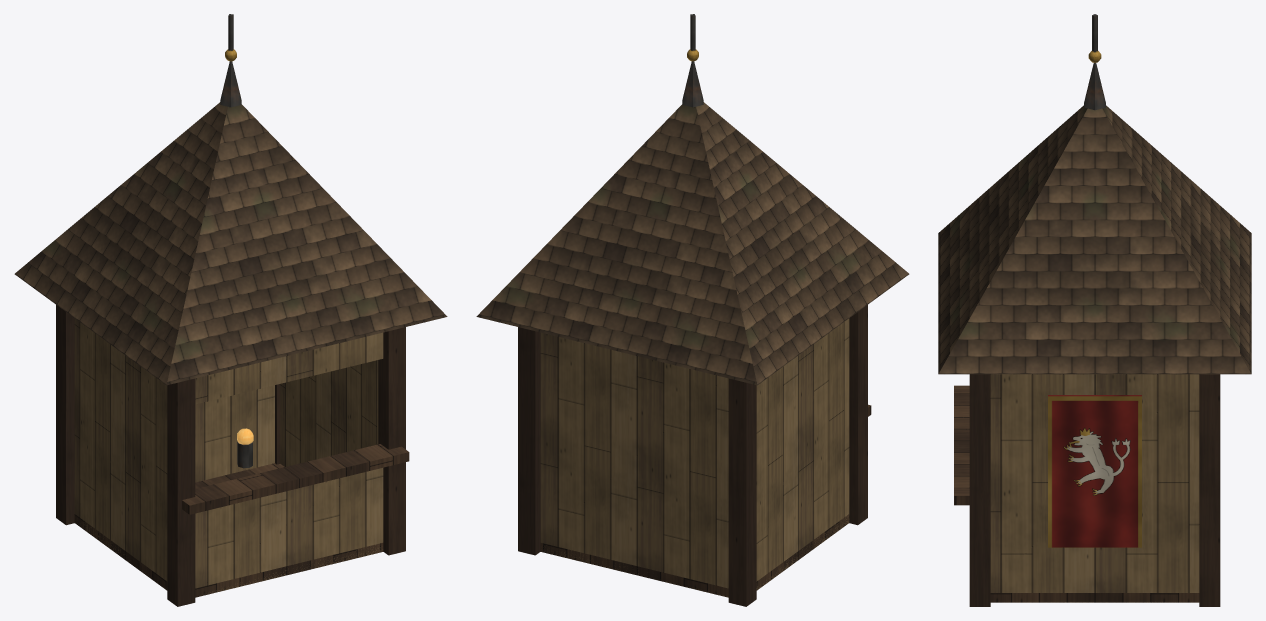
Rendered from guard_booth.gltf.
3 renders of one model, left to right at view 1: azimuth 30°, elevation 25°; view 2: azimuth 150°, elevation 25°; view 3: azimuth 270°, elevation 25°, orthographic. The views are drawn at different scales.
Parts seen in each view (by area): view 1: guard_booth_mesh; view 2: guard_booth_mesh; view 3: guard_booth_mesh.
Part boxes in pixels (x1,y1,x2,y2): guard_booth_mesh: [14, 14, 447, 606]; guard_booth_mesh: [476, 14, 909, 606]; guard_booth_mesh: [938, 14, 1251, 606].
Size of what is drawn, in the model's own units: 3.2 by 5.65 by 3.
Materials: 9 (9 with a texture image).
